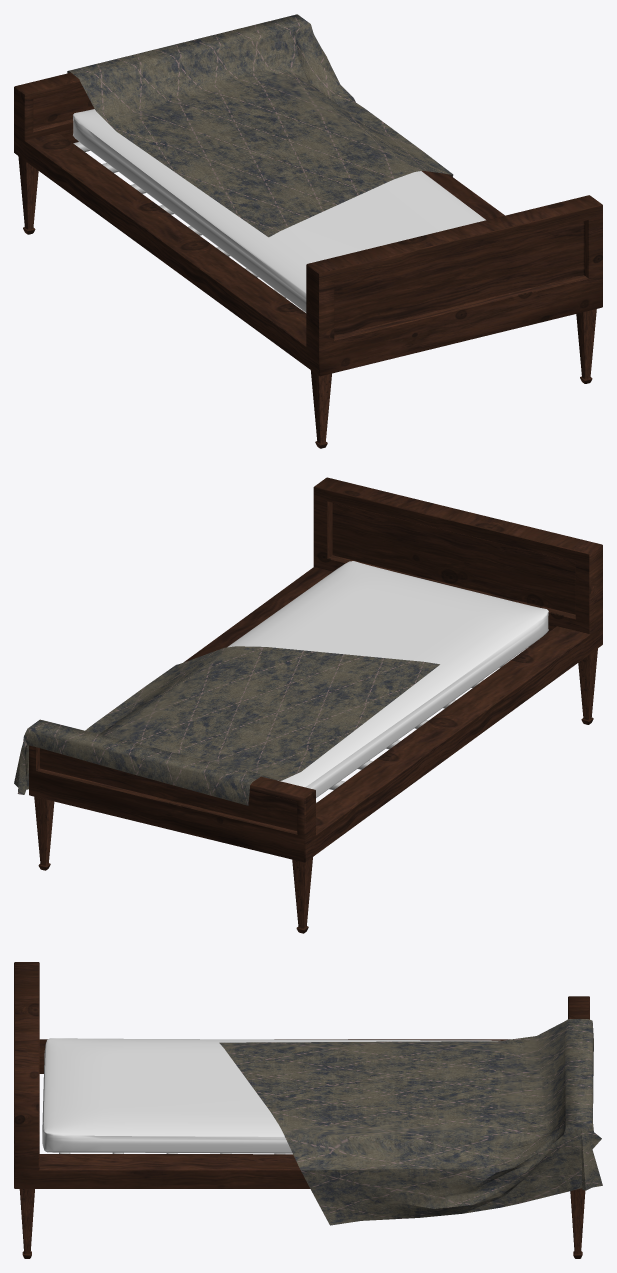
Rendered from Bed.fbx.
3 views of the same model, one above another, from view 1: azimuth 30°, elevation 25°; view 2: azimuth 150°, elevation 25°; view 3: azimuth 270°, elevation 25° (orthographic). The views are drawn at different scales.
Parts seen in each view (by area): view 1: frame, blanket, mattress, feet; view 2: frame, blanket, mattress, feet; view 3: blanket, mattress, frame, feet.
Boxes of the visible parts, box(x1,y1,x2,y2) form: frame: box(14, 72, 602, 376); blanket: box(67, 14, 453, 237); mattress: box(73, 109, 485, 312); feet: box(18, 156, 596, 448); frame: box(29, 477, 602, 862); blanket: box(14, 646, 439, 805); mattress: box(227, 561, 548, 797); feet: box(34, 648, 597, 933); blanket: box(219, 1019, 602, 1225); mattress: box(42, 1038, 500, 1153); frame: box(14, 962, 589, 1188); feet: box(19, 1189, 585, 1258).
Bounding box in the file's own units: 1.81 × 1.04 × 3.25.
